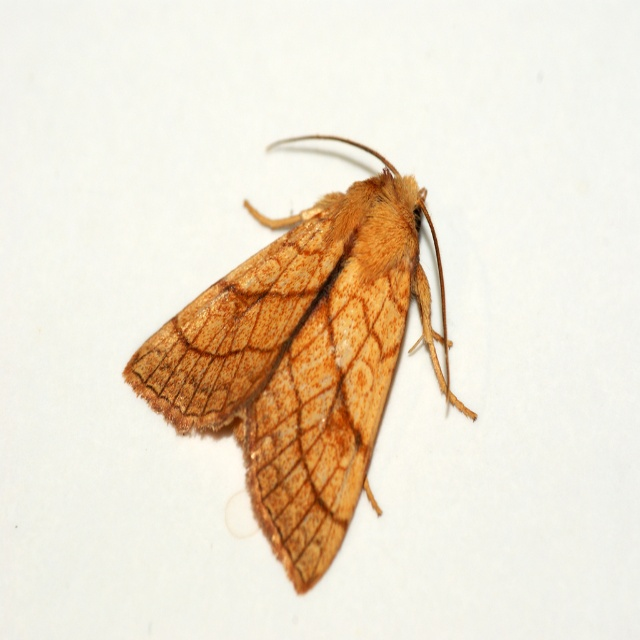Butterfly: (134, 122, 486, 601)
